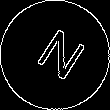N_SW: (24, 23, 86, 87)
